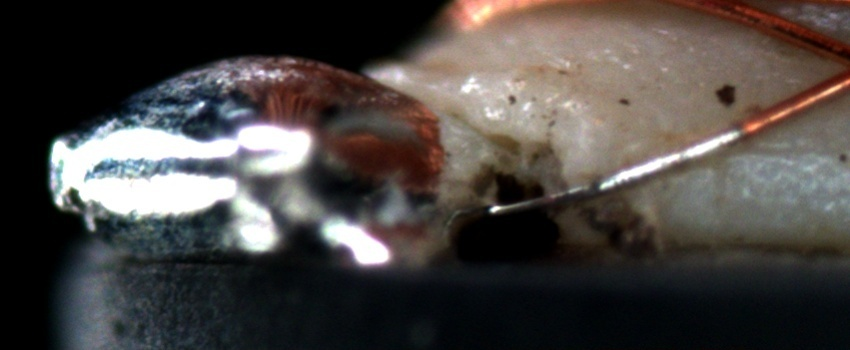CL: (827, 37, 850, 90)
DL: (732, 130, 849, 187)
TS: (491, 126, 746, 216)
